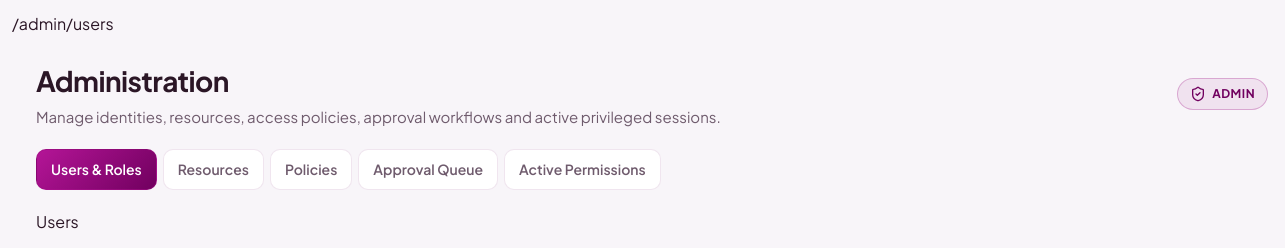
Test: Admin Dashboard routing & role guard › marks the active section and leaves siblings unmarked
The image size is (1285, 248).
Expected: the text "Users" is shown, x1=36 y1=210 x2=79 y2=232
What coordinates should you click on to do the following:
click the link with aria-label "admin resources"
I would click on:
 (213, 169)
Its box is x1=163 y1=148 x2=264 y2=190.
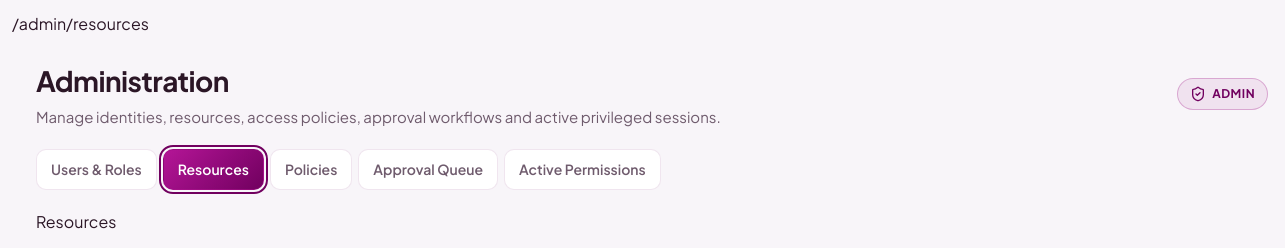
Expected: the text "Resources" is shown, x1=36 y1=210 x2=116 y2=232
